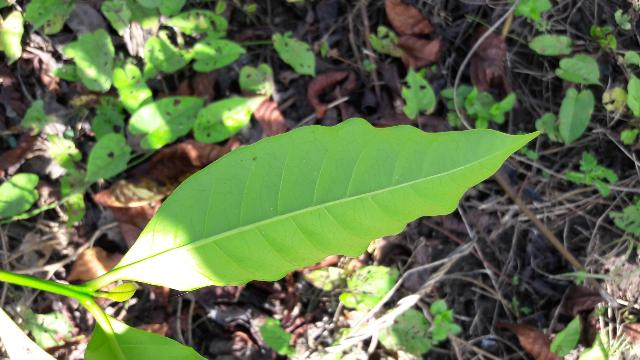healthy: (110, 116, 543, 291)
